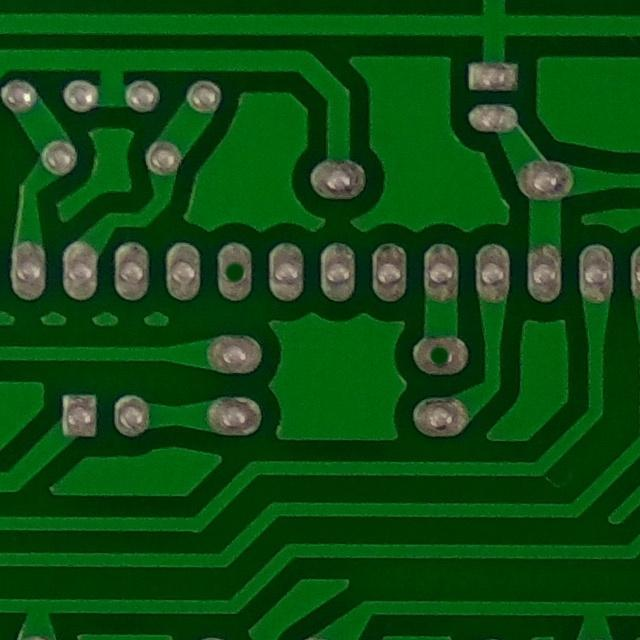missing_hole: (413, 332, 467, 383), (209, 246, 258, 301)
